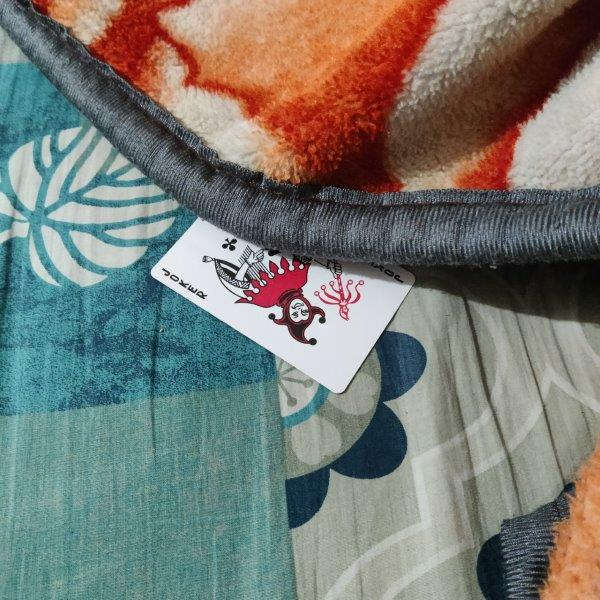Joker: (151, 216, 417, 395)
